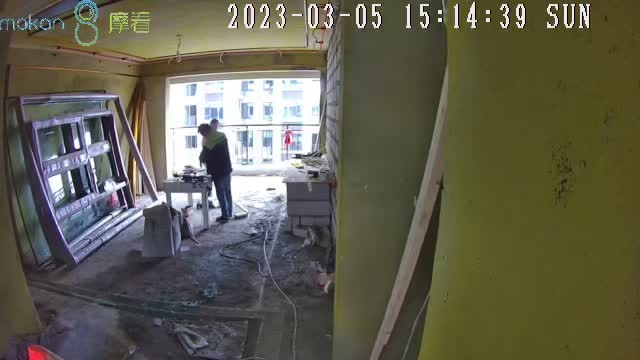people: (197, 123, 233, 222)
window: (166, 77, 320, 165)
